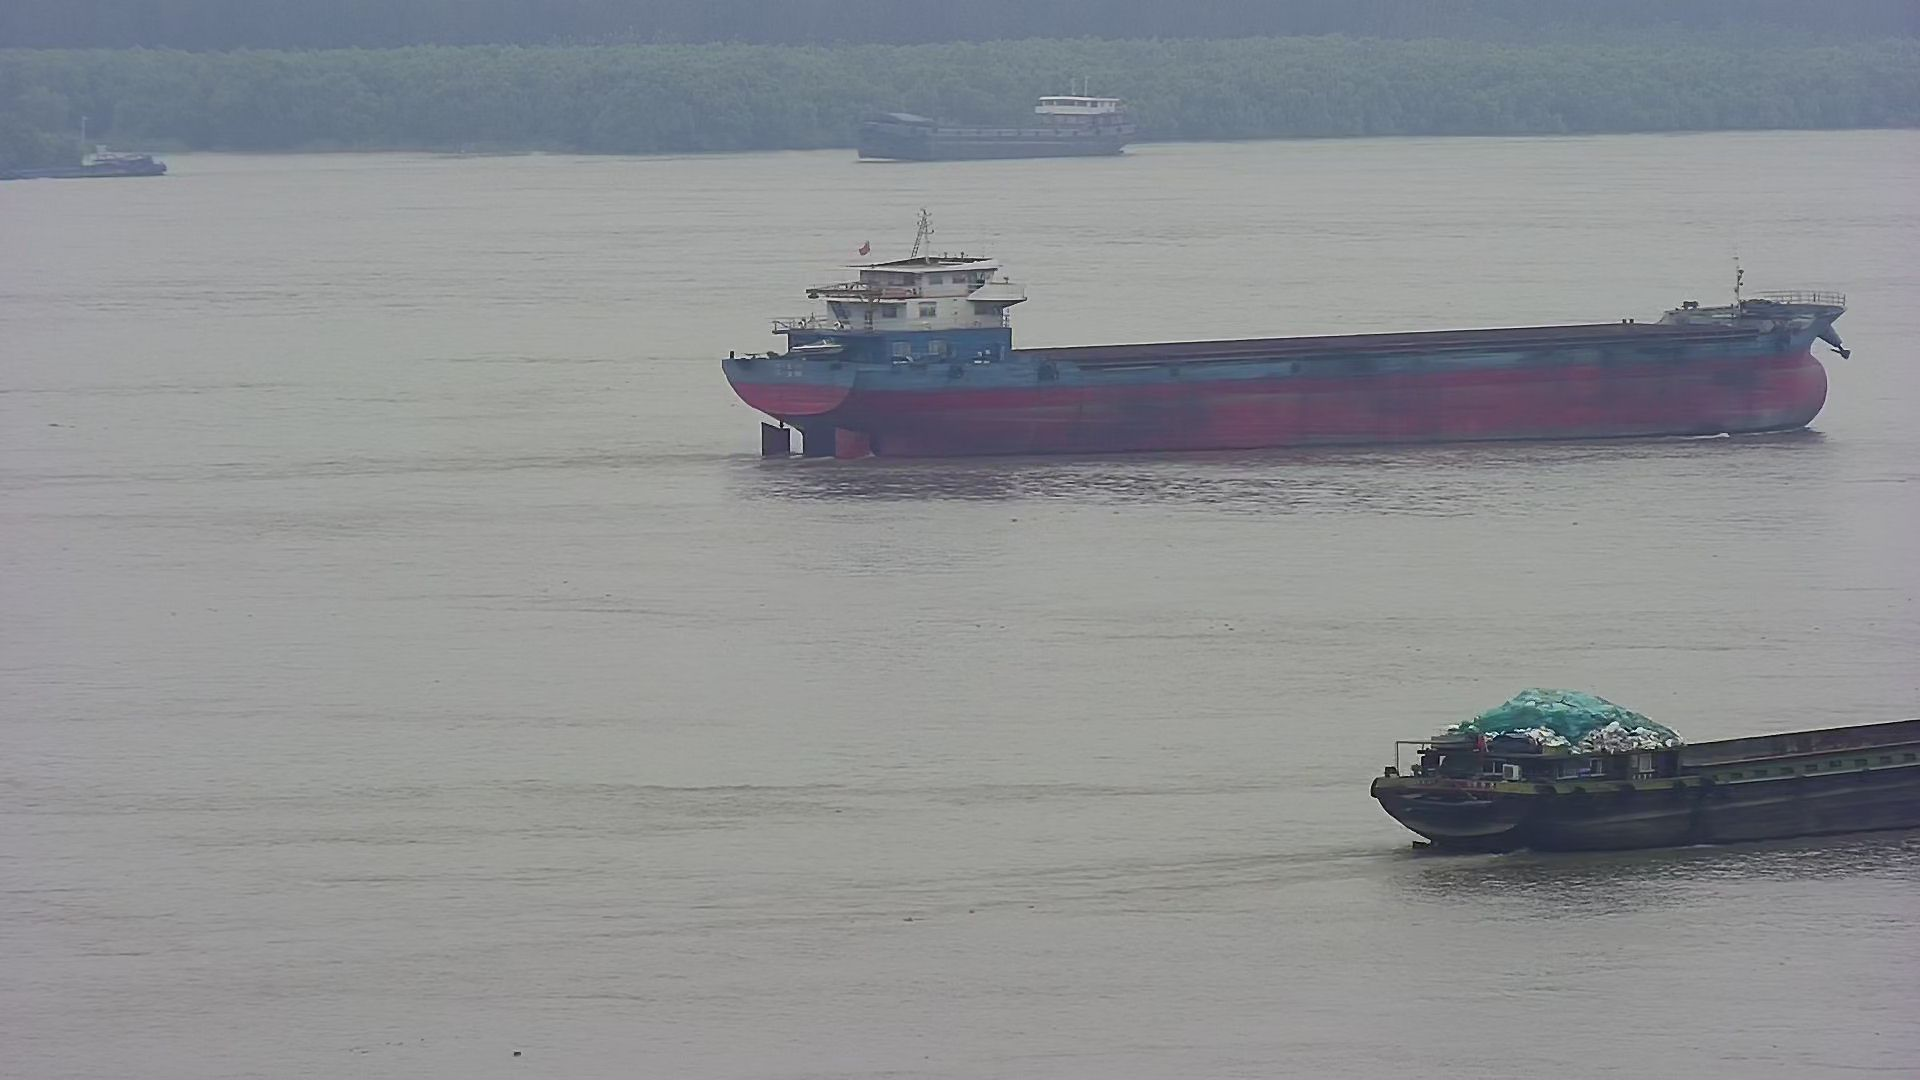boat: (1, 107, 191, 196)
ship: (694, 236, 1859, 477), (1371, 667, 1920, 866), (822, 58, 1178, 171)
